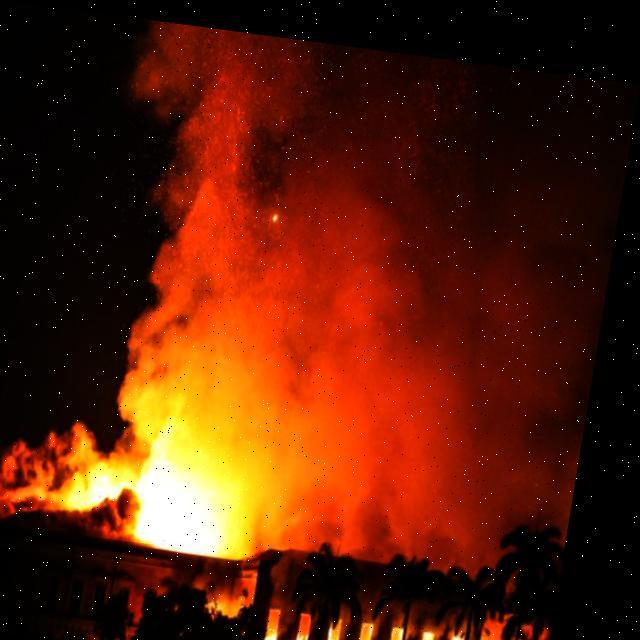Fire: (94, 362, 312, 556), (283, 597, 510, 639)
